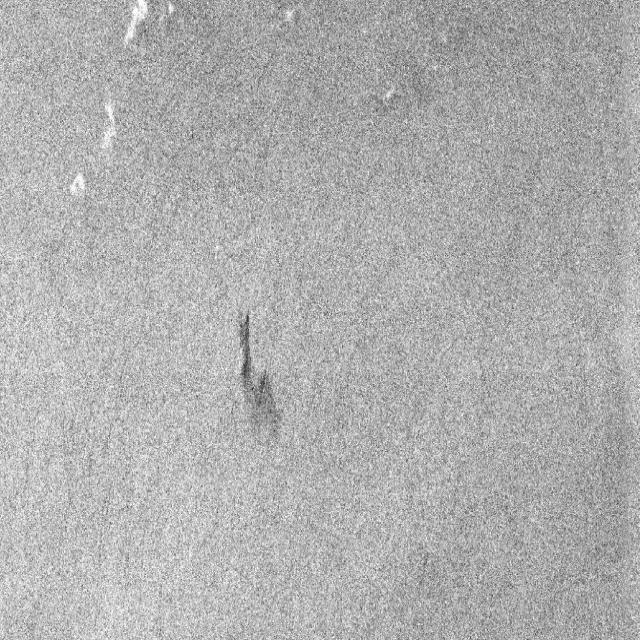oil-spill: (229, 305, 285, 438)
